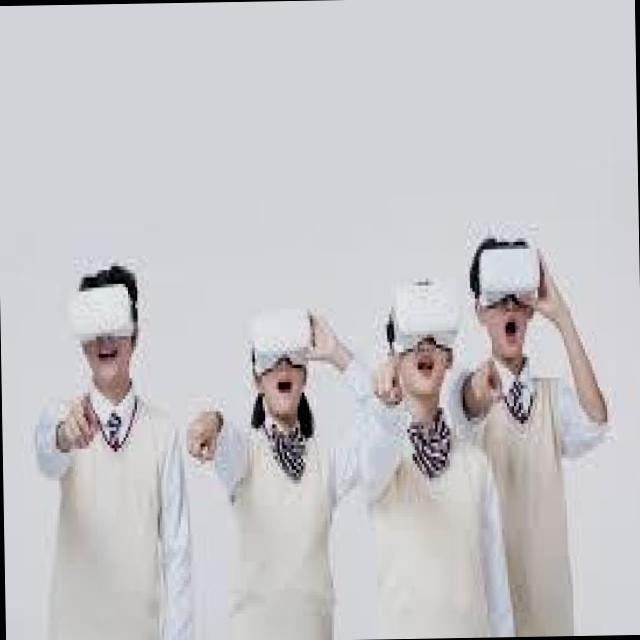Tshirt: (25, 386, 199, 640), (454, 366, 602, 638), (200, 405, 356, 639), (361, 406, 505, 639)
